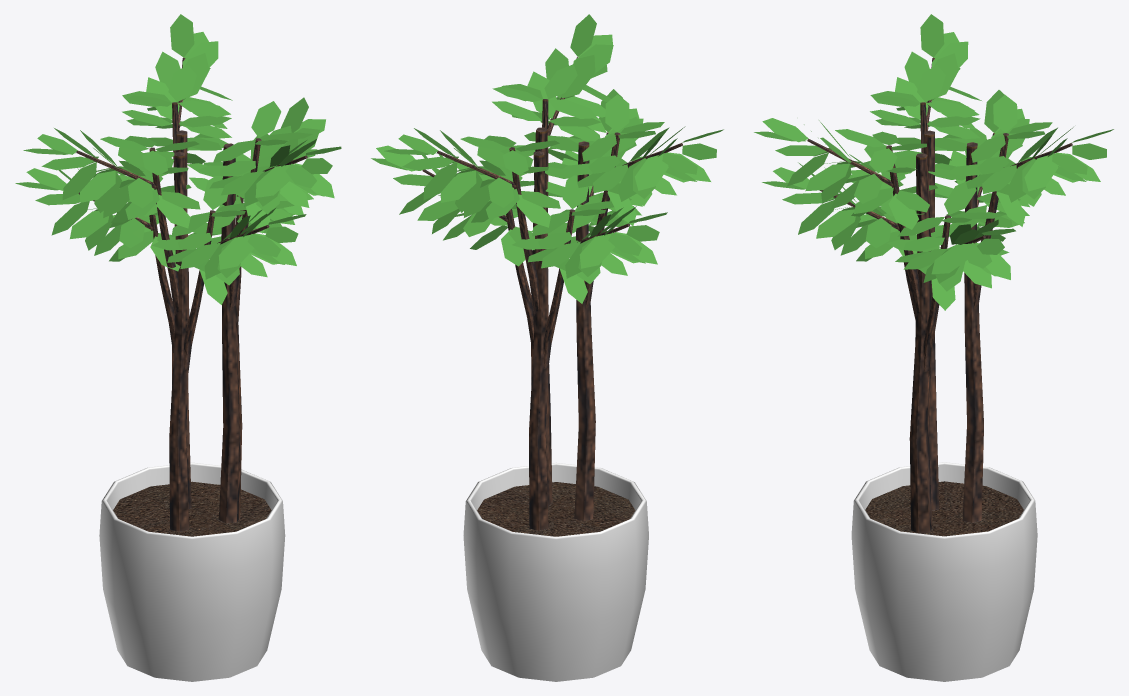
Rendered from plant.glb.
3 views of the same model, side by side, from view 1: azimuth 30°, elevation 25°; view 2: azimuth 150°, elevation 25°; view 3: azimuth 270°, elevation 25° (orthographic).
Visible parts, largest first — view 1: Pot1_lambert3_0, Pot_Dirt_lambert3_0, Plant_Branch1_lambert3_0.002, Plant_Branch1_lambert3_0.001, Plant_Branch_Small1_lambert3_0.002, Plant_Branch_Small1_lambert3_0.003, Plant_Branch_Small1_lambert3_0, Leaf9_lambert3_0.001, Leaf15_lambert3_0.002, Plant_Branch1_lambert3_0, Leaf15_lambert3_0.005, Leaf19_lambert3_0.003 (+18 smaller); view 2: Pot1_lambert3_0, Pot_Dirt_lambert3_0, Plant_Branch1_lambert3_0, Plant_Branch1_lambert3_0.001, Plant_Branch1_lambert3_0.002, Plant_Branch_Small1_lambert3_0, Plant_Branch_Small1_lambert3_0.001, Plant_Branch_Small1_lambert3_0.004, Leaf15_lambert3_0.003, Leaf15_lambert3_0, Leaf20_lambert3_0.005, Leaf27_lambert3_0.003 (+11 smaller); view 3: Pot1_lambert3_0, Plant_Branch1_lambert3_0.002, Pot_Dirt_lambert3_0, Plant_Branch1_lambert3_0, Plant_Branch1_lambert3_0.001, Plant_Branch_Small1_lambert3_0.004, Leaf9_lambert3_0.003, Leaf15_lambert3_0.001, Leaf27_lambert3_0.001, Leaf26_lambert3_0.003, Leaf15_lambert3_0.004, Leaf19_lambert3_0.005 (+11 smaller).
Boxes of the visible parts, bbox=[...] form: Pot1_lambert3_0: bbox=[99, 462, 285, 681]; Pot_Dirt_lambert3_0: bbox=[113, 481, 271, 536]; Plant_Branch1_lambert3_0.002: bbox=[218, 143, 242, 523]; Plant_Branch1_lambert3_0.001: bbox=[169, 151, 189, 531]; Plant_Branch_Small1_lambert3_0.002: bbox=[184, 210, 215, 372]; Plant_Branch_Small1_lambert3_0.003: bbox=[149, 147, 179, 317]; Plant_Branch_Small1_lambert3_0: bbox=[149, 215, 174, 352]; Leaf9_lambert3_0.001: bbox=[170, 14, 194, 57]; Leaf15_lambert3_0.002: bbox=[218, 234, 254, 269]; Plant_Branch1_lambert3_0: bbox=[172, 130, 191, 508]; Leaf15_lambert3_0.005: bbox=[255, 164, 291, 197]; Leaf19_lambert3_0.003: bbox=[80, 170, 115, 202]; Pot1_lambert3_0: bbox=[463, 462, 648, 681]; Pot_Dirt_lambert3_0: bbox=[477, 482, 635, 536]; Plant_Branch1_lambert3_0: bbox=[529, 151, 548, 530]; Plant_Branch1_lambert3_0.001: bbox=[574, 141, 595, 521]; Plant_Branch1_lambert3_0.002: bbox=[531, 127, 552, 505]; Plant_Branch_Small1_lambert3_0: bbox=[543, 209, 574, 370]; Plant_Branch_Small1_lambert3_0.001: bbox=[509, 147, 538, 315]; Plant_Branch_Small1_lambert3_0.004: bbox=[506, 209, 533, 348]; Leaf15_lambert3_0.003: bbox=[635, 154, 668, 190]; Leaf15_lambert3_0: bbox=[579, 233, 614, 268]; Leaf20_lambert3_0.005: bbox=[561, 55, 595, 98]; Leaf27_lambert3_0.003: bbox=[605, 94, 629, 132]; Pot1_lambert3_0: bbox=[851, 462, 1037, 681]; Plant_Branch1_lambert3_0.002: bbox=[909, 153, 932, 533]; Pot_Dirt_lambert3_0: bbox=[865, 481, 1023, 536]; Plant_Branch1_lambert3_0: bbox=[962, 142, 983, 522]; Plant_Branch1_lambert3_0.001: bbox=[924, 130, 939, 510]; Plant_Branch_Small1_lambert3_0.004: bbox=[923, 215, 950, 376]; Leaf9_lambert3_0.003: bbox=[920, 14, 944, 57]; Leaf15_lambert3_0.001: bbox=[1024, 154, 1058, 191]; Leaf27_lambert3_0.001: bbox=[993, 95, 1017, 132]; Leaf26_lambert3_0.003: bbox=[917, 65, 945, 102]; Leaf15_lambert3_0.004: bbox=[931, 243, 970, 274]; Leaf19_lambert3_0.005: bbox=[805, 163, 849, 191].
Size of the model in its own units: 1.37 by 2.24 by 1.31.
Materials: 1 (1 with a texture image).
